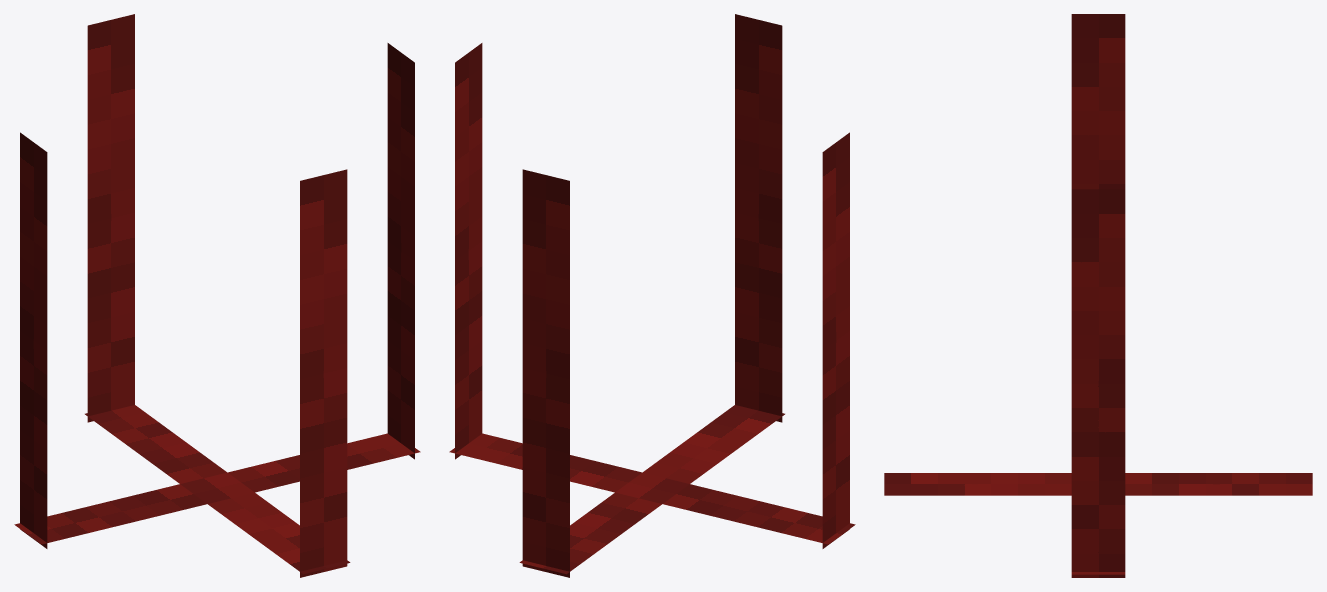
File: dust_2222.gltf
The picture shows the model from 3 angles, left to right: view 1: azimuth 30°, elevation 25°; view 2: azimuth 150°, elevation 25°; view 3: azimuth 270°, elevation 25°; orthographic projection. The views are drawn at different scales.
Parts seen in each view (by area): view 1: dust_2222; view 2: dust_2222; view 3: dust_2222.
Boxes of the visible parts, bbox=[...] form: dust_2222: bbox=[14, 14, 420, 577]; dust_2222: bbox=[449, 14, 855, 577]; dust_2222: bbox=[884, 14, 1312, 577].
Bounding box in the file's own units: 1 × 1 × 1.
1 material, 1 textured.
